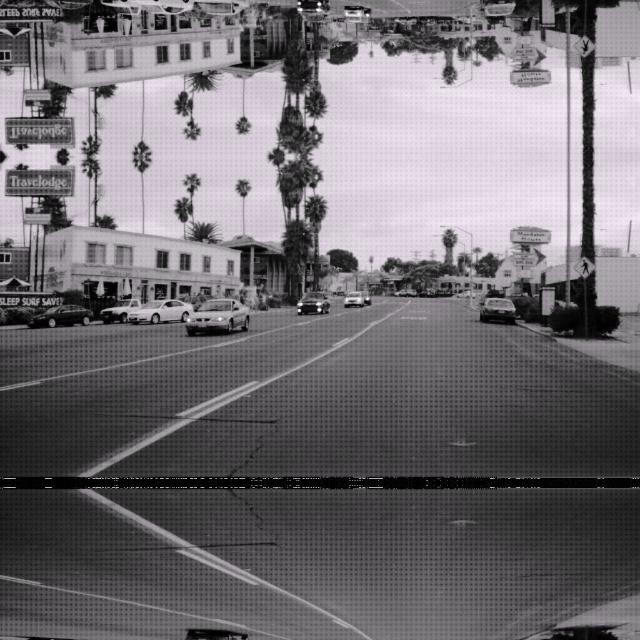pedestrianCrossing: (572, 254, 596, 278), (572, 34, 596, 58)
